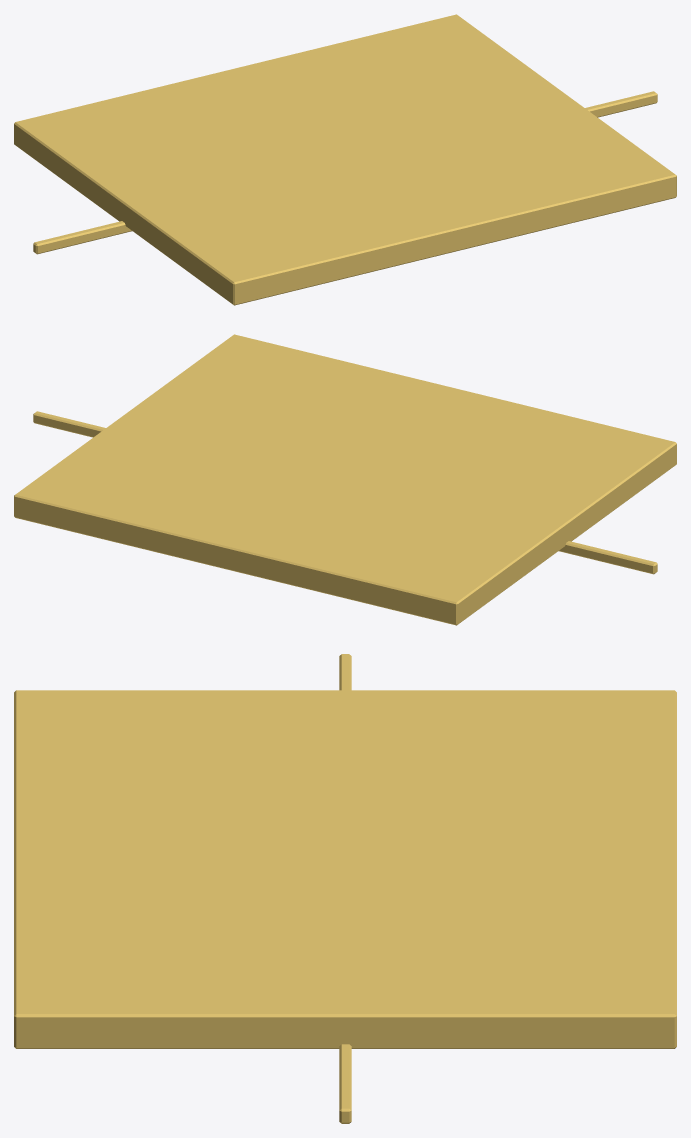
Rendered from SM_Deck_10x0p5x8p6.glb.
The picture shows the model from 3 angles, top to bottom: view 1: azimuth 30°, elevation 25°; view 2: azimuth 150°, elevation 25°; view 3: azimuth 270°, elevation 25°; orthographic projection. The views are drawn at different scales.
Visible parts, largest first — view 1: SM_Deck_10x0p5x8p6; view 2: SM_Deck_10x0p5x8p6; view 3: SM_Deck_10x0p5x8p6.
Part boxes in pixels (x1,y1,x2,y2): SM_Deck_10x0p5x8p6: [14, 14, 676, 305]; SM_Deck_10x0p5x8p6: [14, 334, 676, 625]; SM_Deck_10x0p5x8p6: [14, 654, 676, 1123].
Size of the model in its own units: 14.01 by 0.6364 by 8.6.
